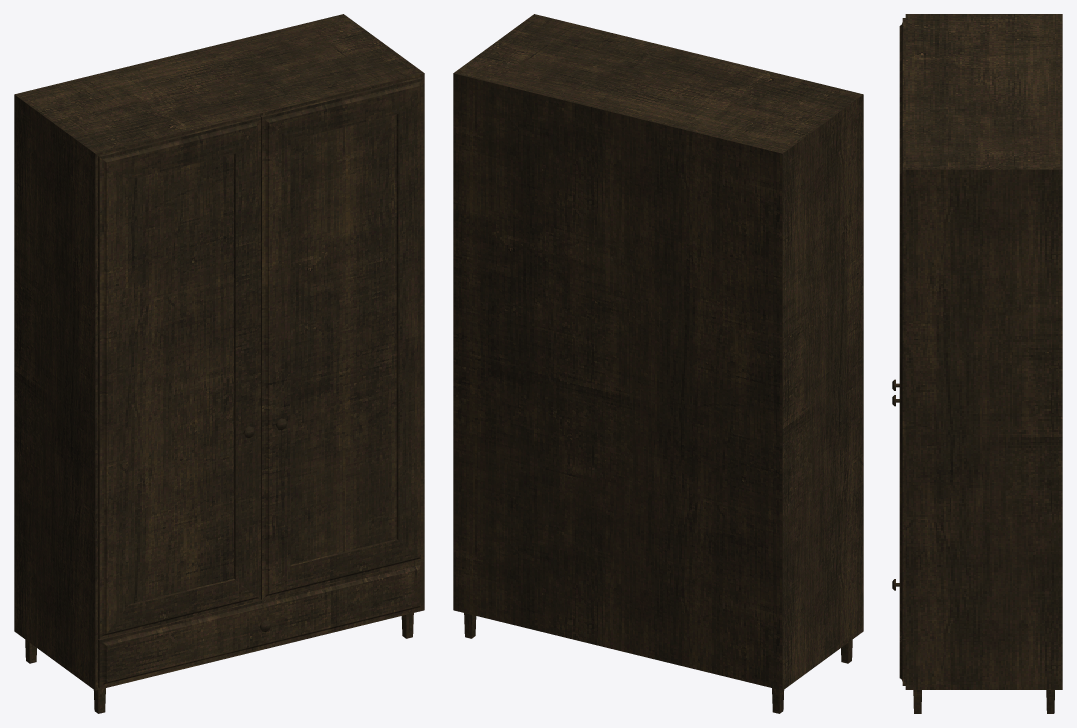
File: wardrobe_mp_1_3.glb
The picture shows the model from 3 angles, left to right: view 1: azimuth 30°, elevation 25°; view 2: azimuth 150°, elevation 25°; view 3: azimuth 270°, elevation 25°; orthographic projection. The views are drawn at different scales.
Parts seen in each view (by area): view 1: wardrobe_mp_1_3, wardrobe_mp_1_3_drawer; view 2: wardrobe_mp_1_3; view 3: wardrobe_mp_1_3, wardrobe_mp_1_3_drawer.
Part boxes in pixels (<box>): wardrobe_mp_1_3: <box>14,14,424,713</box>; wardrobe_mp_1_3_drawer: <box>98,561,423,688</box>; wardrobe_mp_1_3: <box>453,14,863,713</box>; wardrobe_mp_1_3: <box>892,14,1062,713</box>; wardrobe_mp_1_3_drawer: <box>892,579,905,685</box>.
Size of the model in its own units: 1.22 by 2 by 0.5645.
1 material, 1 textured.
